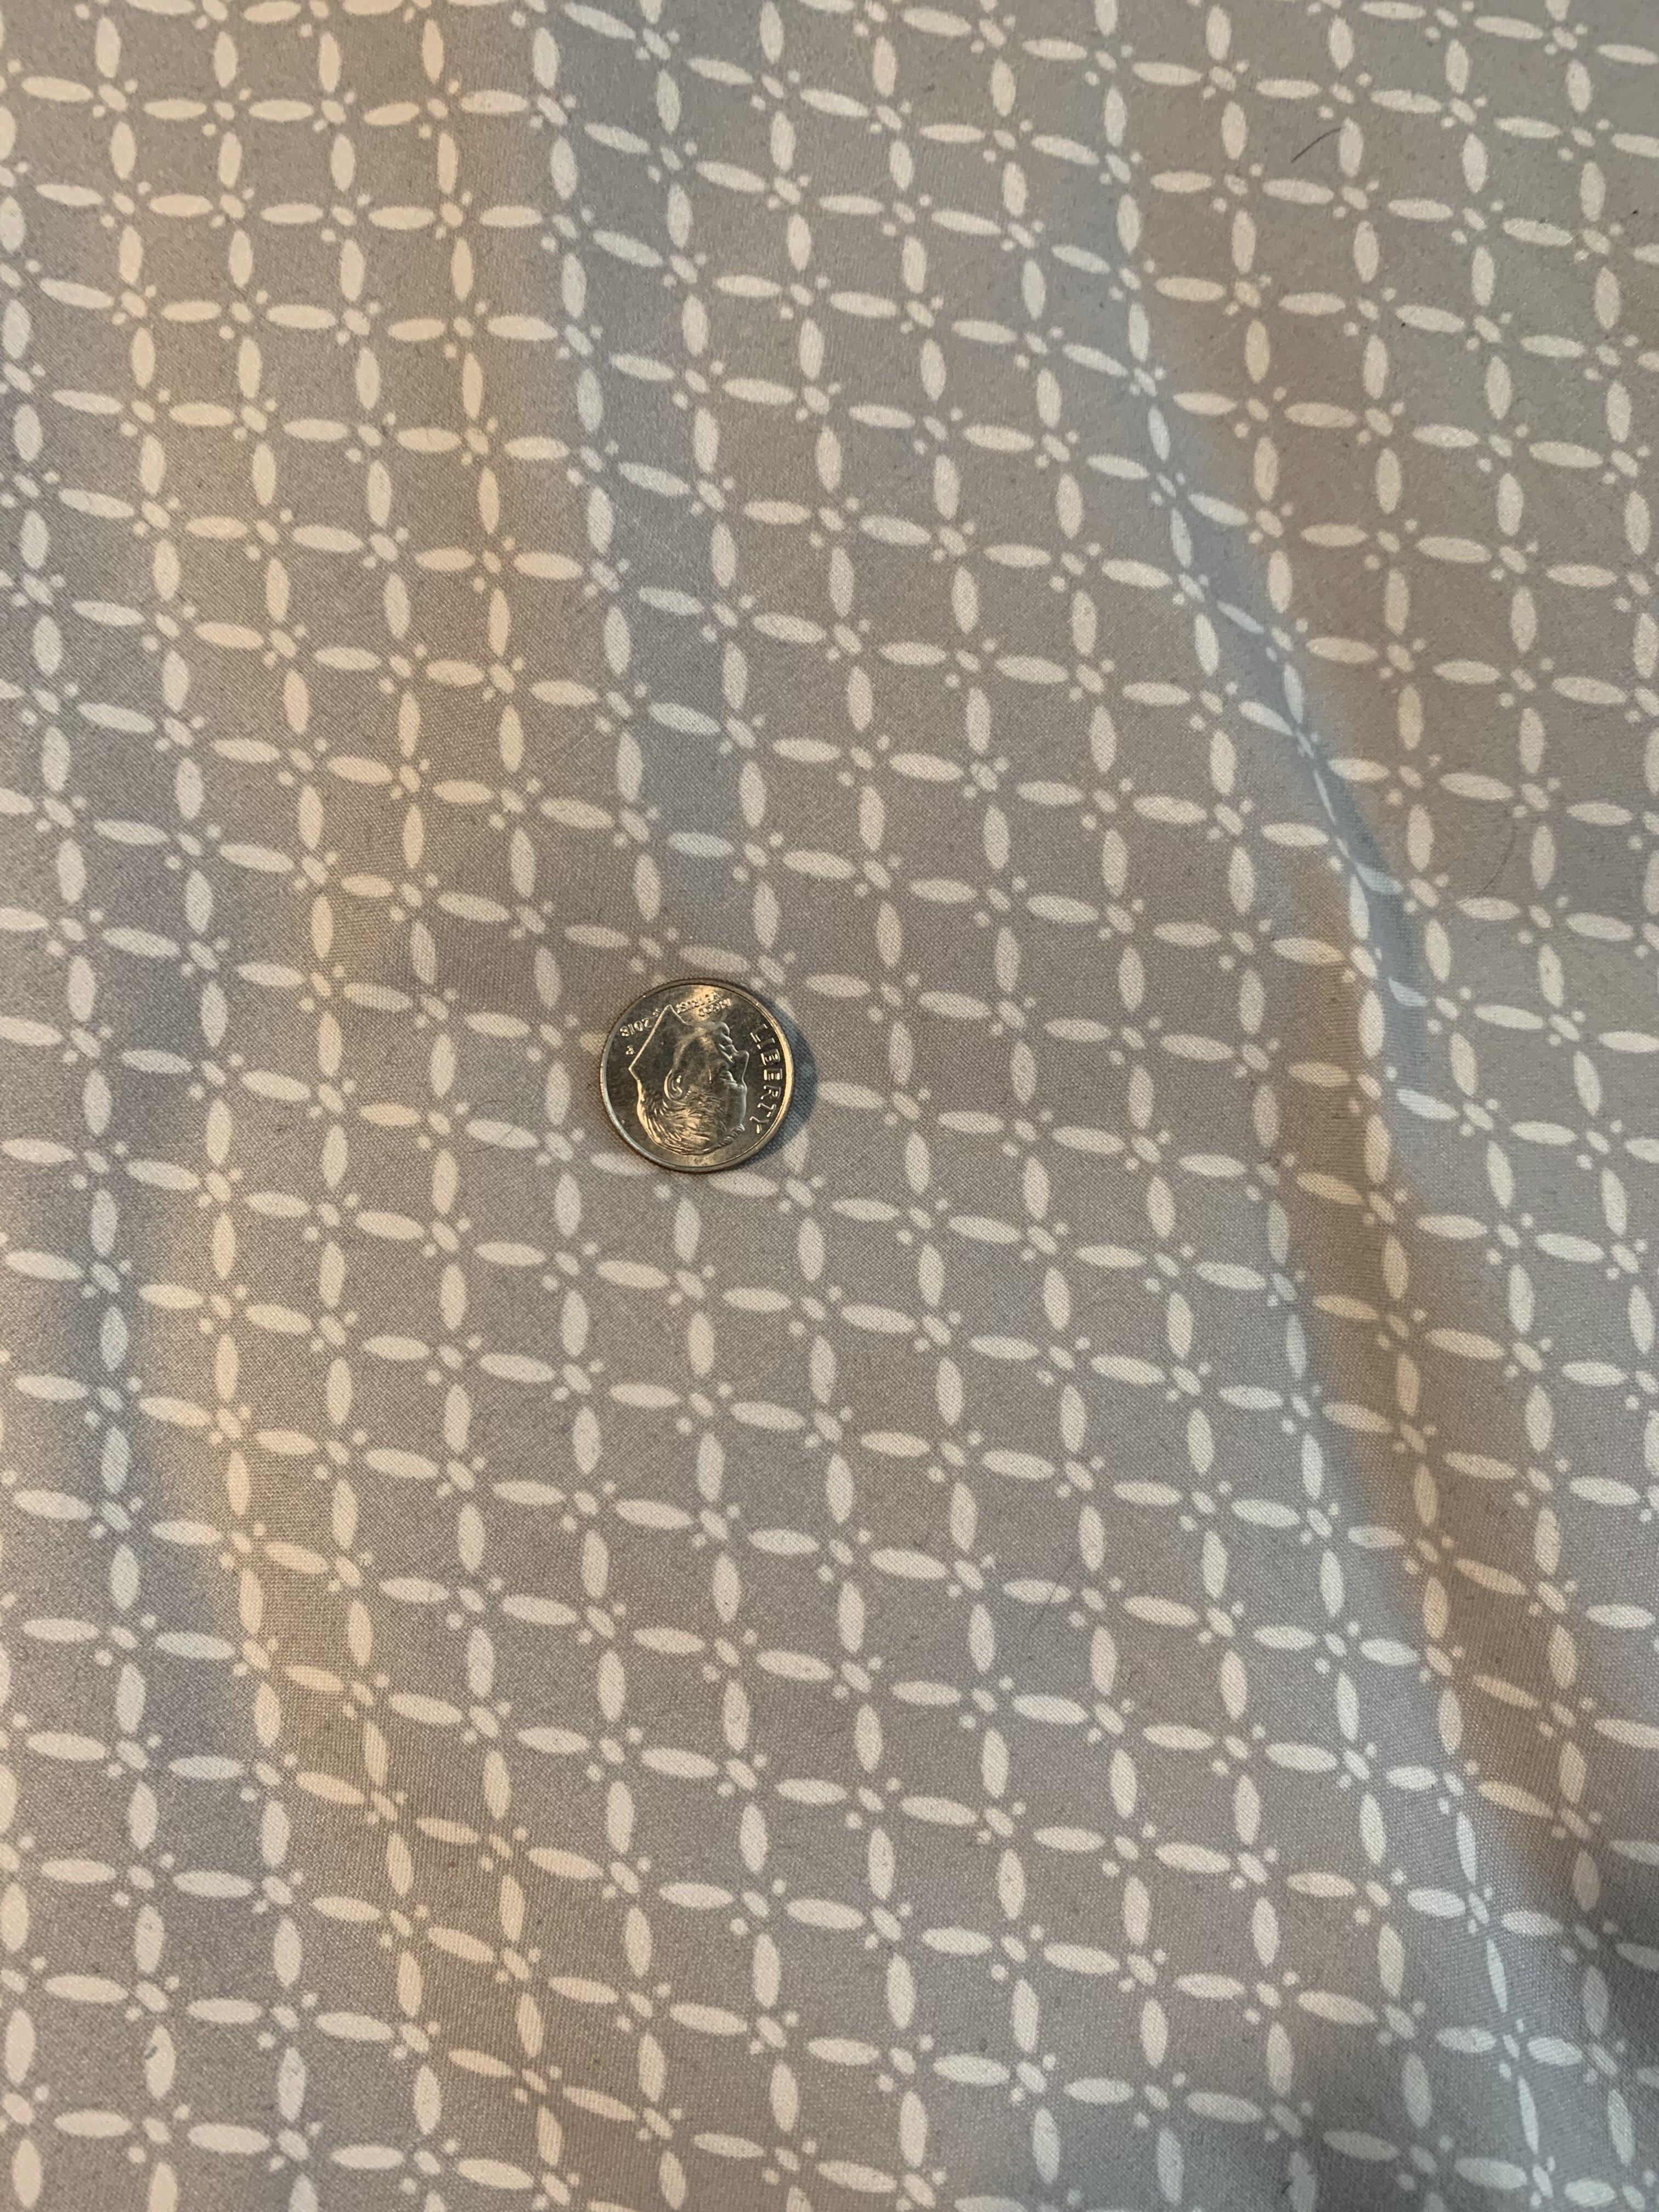Dime: (570, 948, 819, 1200)
